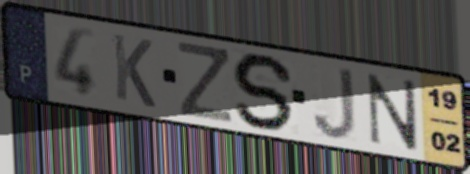4: (51, 24, 100, 100)
J: (310, 65, 359, 142)
K: (110, 30, 158, 111)
N: (366, 71, 420, 153)
S: (230, 51, 299, 133)
Z: (175, 39, 236, 126)
